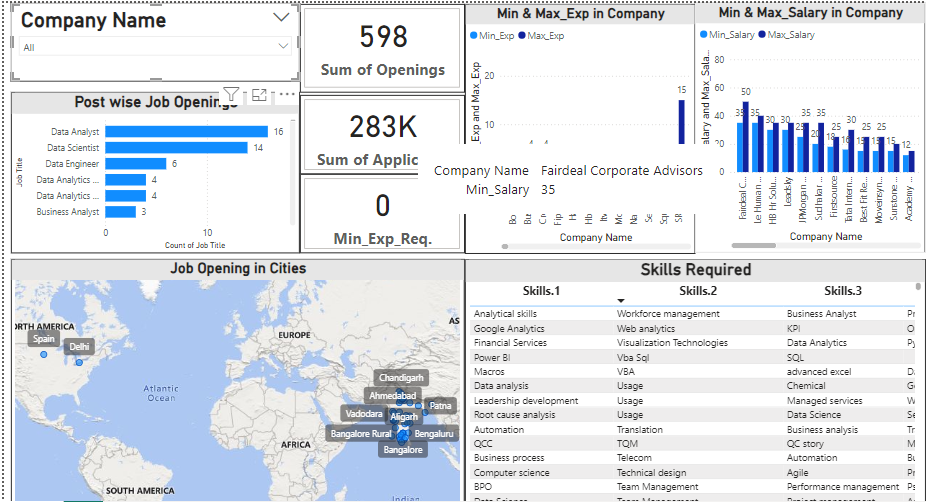

The dashboard page shown, as its layout file describes it:
{"tool":"powerbi","page":{"name":"Page 1","canvas":[1280,720],"ordinal":0},"visuals":[{"type":"slicer","fields":{"Values":["Data_Set.Company Name"]},"box":[10,0,401.4,108.6],"z":0},{"type":"cardVisual","fields":{"Data":["Sum(Data_Set.Openings)"]},"box":[411.4,1.4,228.6,122.9],"z":1000},{"type":"cardVisual","fields":{"Data":["Sum(Data_Set.Applicants)"]},"box":[411.4,127.1,228.6,110],"z":2000},{"type":"clusteredColumnChart","title":"Min & Max_Exp in Company ","fields":{"Category":["Data_Set.Company Name"],"Y":["Min(Data_Set.Min_Exp)","Max(Data_Set.Max_Exp)"]},"box":[640,1.4,320,347.1],"z":3000},{"type":"clusteredColumnChart","title":"Min & Max_Salary in Company ","fields":{"Category":["Data_Set.Company Name"],"Y":["Min(Data_Set.Min_Salary)","Max(Data_Set.Max_Salary)"]},"box":[960,0,320,347.1],"z":4000},{"type":"map","title":"Job Opening in Cities","fields":{"Category":["Data_Set.City"]},"box":[10,355.7,630,364.3],"z":5000},{"type":"tableEx","title":"Skills Required","fields":{"Values":["Data_Set.Skills.1","Data_Set.Skills.2","Data_Set.Skills.3","Data_Set.Skills.4","Data_Set.Skills.5"]},"box":[640,355.7,640,364.3],"z":6000},{"type":"clusteredBarChart","title":"Post wise Job Openings","fields":{"Y":["CountNonNull(Data_Set.Job Title)"],"Category":["Data_Set.Job Title"]},"box":[10,124.3,401.4,224.3],"z":7000},{"type":"cardVisual","fields":{"Data":["Min(Data_Set.Min_Exp)"]},"box":[411.4,237.1,228.6,110],"z":8000}]}

Visuals, with their boxes in screenshot pixels (x1, y1, x2, y2):
slicer - Data_Set.Company Name: (12,0,298,77)
cardVisual - Sum(Data_Set.Openings): (298,1,461,89)
cardVisual - Sum(Data_Set.Applicants): (298,91,461,169)
"Min & Max_Exp in Company " clusteredColumnChart: (461,1,689,248)
"Min & Max_Salary in Company " clusteredColumnChart: (689,0,917,247)
"Job Opening in Cities" map: (12,253,461,501)
"Skills Required" tableEx: (461,253,917,501)
"Post wise Job Openings" clusteredBarChart: (12,89,298,248)
cardVisual - Min(Data_Set.Min_Exp): (298,169,461,247)
